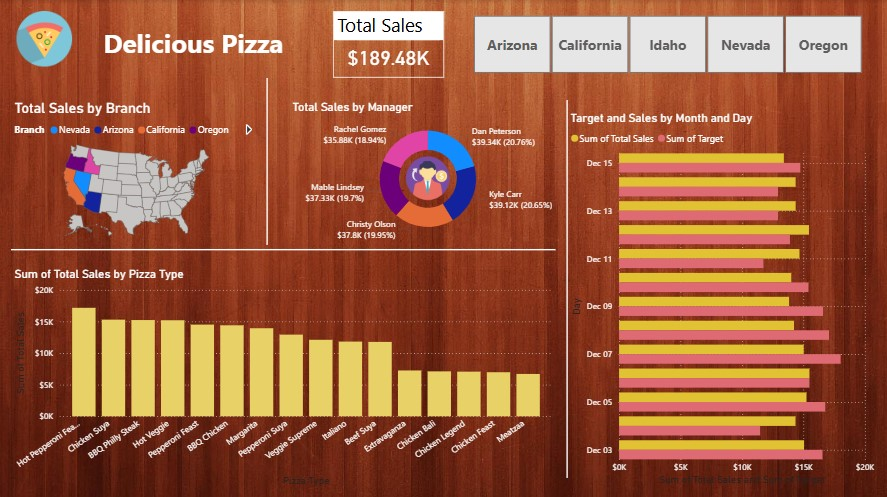

This screenshot's page, from the dashboard's own definition file:
{"tool":"powerbi","page":{"name":"Page 1","canvas":[1280,720],"ordinal":0},"visuals":[{"type":"image","box":[15.1,12.3,71.4,74.1],"z":0},{"type":"textbox","box":[105.7,19.2,281.3,61.7],"z":1000},{"type":"card","title":"Total Sales","fields":{"Values":["Sum(Fact Sales.Total Price)"]},"box":[397.9,12.3,174.3,100.2],"z":2000},{"type":"slicer","fields":{"Values":["Fact Sales.Branch"]},"box":[621.6,19.2,635.3,90.6],"z":3000},{"type":"shapeMap","title":"Total Sales by Branch","fields":{"Value":["Sum(Fact Sales.Total Price)"],"Series":["Fact Sales.Branch"],"Category":["Fact Sales.Branch"]},"box":[15.1,123.5,371.9,260.7],"z":4000},{"type":"donutChart","title":"Total Sales by Manager","fields":{"Y":["Sum(Fact Sales.Total Sales)"],"Category":["DimBranch Data.Manager"]},"box":[397.9,123.5,371.9,260.7],"z":5000},{"type":"image","box":[521.4,212.7,124.9,100.2],"z":6000},{"type":"columnChart","title":"Total Sales by Pizza Type","fields":{"Y":["Sum(Fact Sales.Total Sales)"],"Category":["Fact Sales.Pizza Type"]},"box":[15.1,417.2,745.1,260.7],"z":7000},{"type":"clusteredBarChart","title":"Total Sales and Target by Day","fields":{"Y":["Sum(Fact Sales.Total Sales)","Sum(DimDaily Target.Target)"],"Category":["DimDaily Target.Day"]},"box":[780.8,123.5,487.1,554.4],"z":7001},{"type":"shape","box":[5.5,378.7,754.7,39.8],"z":7002},{"type":"shape","box":[760.2,123.5,20.6,569.5],"z":7003},{"type":"shape","box":[365,140,23.3,245.6],"z":7004}]}

Visuals, with their boxes in screenshot pixels (x1, y1, x2, y2), scaled from the page's 1280x720 canvas onto the 887x497 screenshot:
image: [10,8,60,60]
textbox: [73,13,268,56]
"Total Sales" card: [276,8,397,78]
slicer - Fact Sales.Branch: [431,13,871,76]
"Total Sales by Branch" shapeMap: [10,85,268,265]
"Total Sales by Manager" donutChart: [276,85,533,265]
image: [361,147,448,216]
"Total Sales by Pizza Type" columnChart: [10,288,527,468]
"Total Sales and Target by Day" clusteredBarChart: [541,85,879,468]
shape: [4,261,527,289]
shape: [527,85,541,478]
shape: [253,97,269,266]
